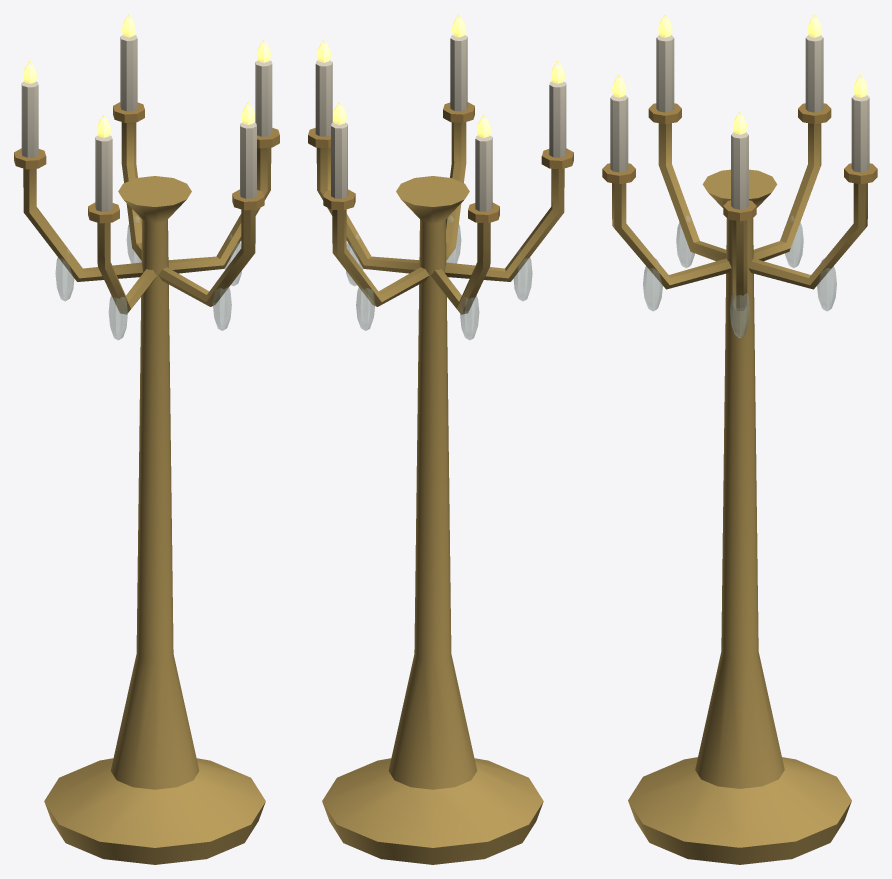
The model's file is chandelier_candle.glb.
3 renders of one model, left to right at view 1: azimuth 30°, elevation 25°; view 2: azimuth 150°, elevation 25°; view 3: azimuth 270°, elevation 25°, orthographic.
Visible parts, largest first — view 1: chandelier_candle, flame; view 2: chandelier_candle, flame; view 3: chandelier_candle, flame.
Boxes of the visible parts, box(x1,y1,x2,y2) form: chandelier_candle: box(14, 35, 279, 864); flame: box(23, 14, 270, 137); chandelier_candle: box(308, 35, 573, 864); flame: box(317, 14, 564, 137); chandelier_candle: box(602, 35, 877, 864); flame: box(612, 14, 867, 134).
Size of the model in its own units: 0.7051 by 2.25 by 0.7367.
